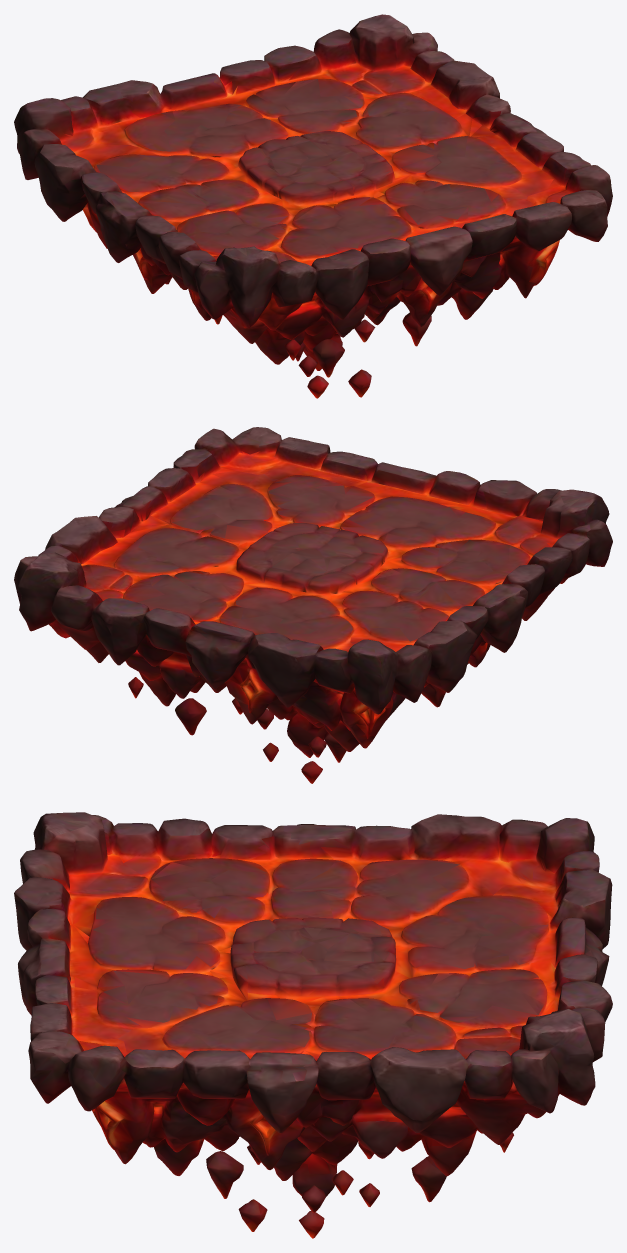
The model's file is R3_Island_Ferry.fbx.
3 renders of one model, top to bottom at view 1: azimuth 30°, elevation 25°; view 2: azimuth 150°, elevation 25°; view 3: azimuth 270°, elevation 25°, orthographic. The views are drawn at different scales.
Visible parts, largest first — view 1: R3_Island_Ferry; view 2: R3_Island_Ferry; view 3: R3_Island_Ferry.
Part boxes in pixels (x1=…): R3_Island_Ferry: x1=14, y1=14, x2=612, y2=398; R3_Island_Ferry: x1=14, y1=427, x2=612, y2=783; R3_Island_Ferry: x1=14, y1=812, x2=612, y2=1238.
Size of the model in its own units: 600 by 350 by 600.
1 material, 1 textured.
